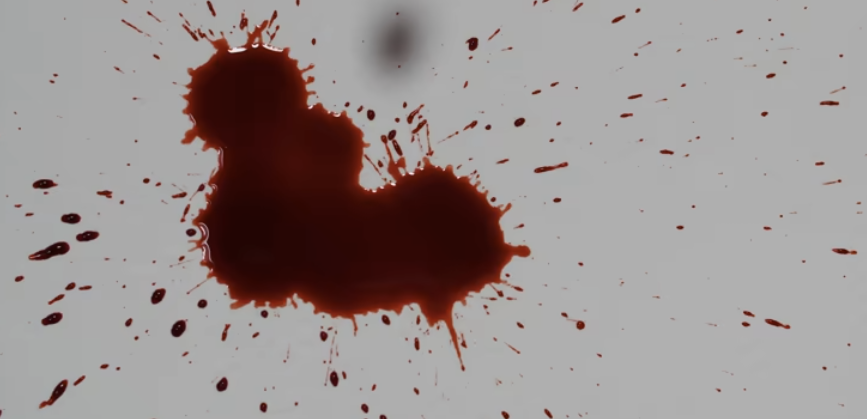blood_37.png: (1, 4, 685, 403)
